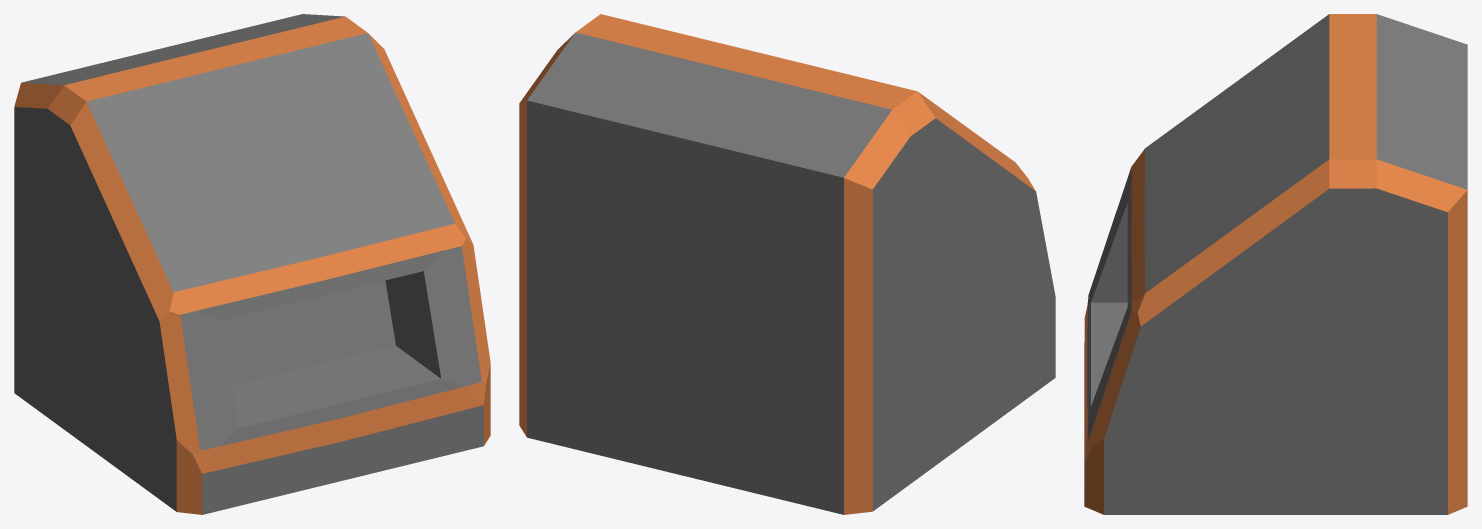
File: IC chip assembler.glb
3 renders of one model, left to right at view 1: azimuth 30°, elevation 25°; view 2: azimuth 150°, elevation 25°; view 3: azimuth 270°, elevation 25°, orthographic. The views are drawn at different scales.
Parts seen in each view (by area): view 1: Cube; view 2: Cube; view 3: Cube.
Part boxes in pixels (<box>): Cube: <box>14,14,490,514</box>; Cube: <box>519,14,1055,514</box>; Cube: <box>1084,14,1467,514</box>.
Size of the model in its own units: 200 by 200 by 200.
